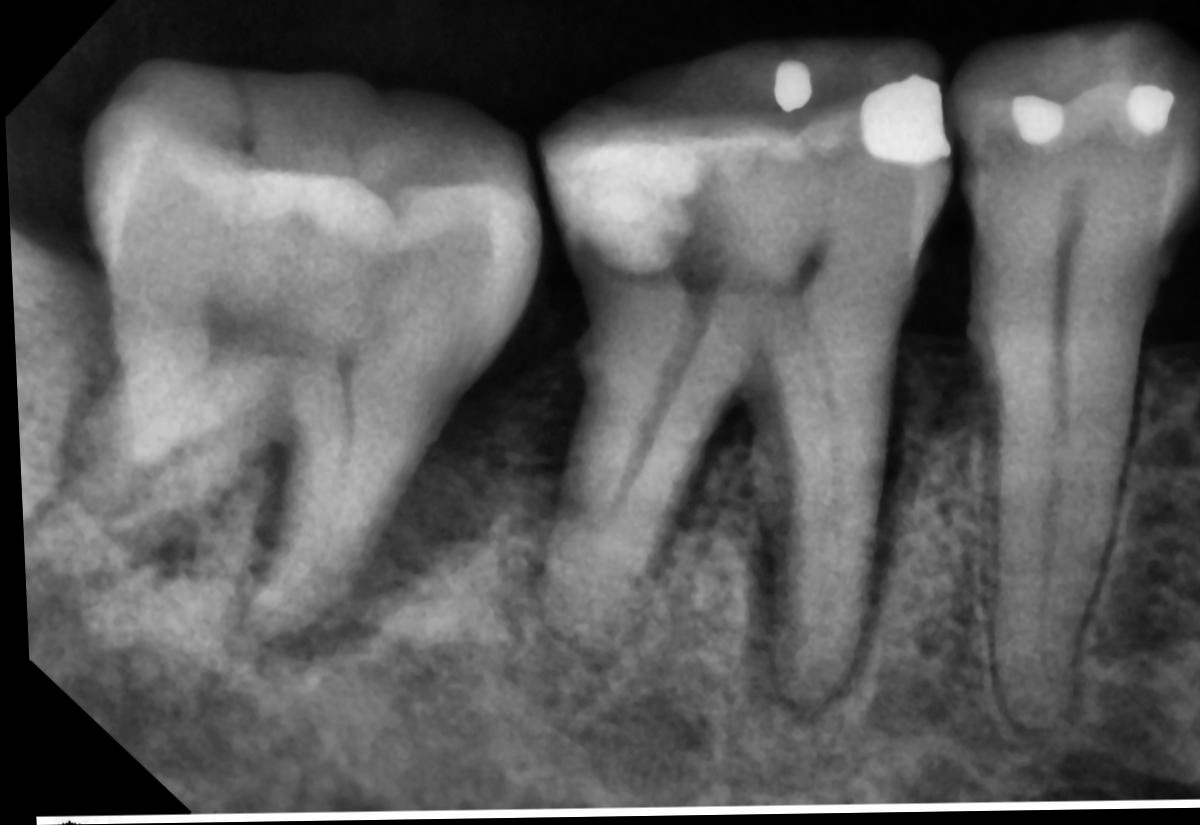Individual Tooth: (55, 59, 539, 639), (539, 43, 949, 708), (951, 26, 1200, 730)
